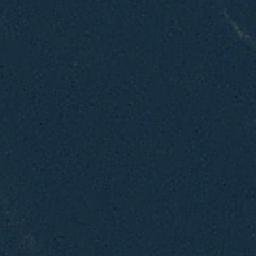debris: (224, 13, 239, 34), (244, 33, 251, 39)
